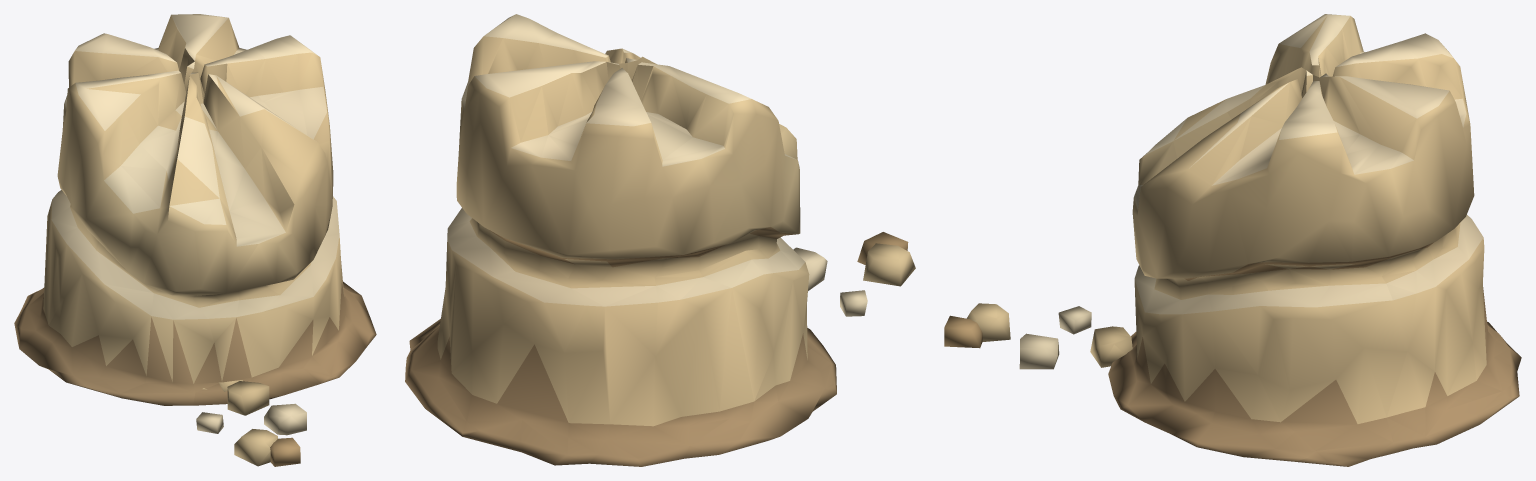
The model's file is shore_sand_pie_a_lod1.glb.
The picture shows the model from 3 angles, left to right: view 1: azimuth 30°, elevation 25°; view 2: azimuth 150°, elevation 25°; view 3: azimuth 270°, elevation 25°; orthographic projection. The views are drawn at different scales.
Visible parts, largest first — view 1: shore_sand_pie_a.001; view 2: shore_sand_pie_a.001; view 3: shore_sand_pie_a.001.
Part boxes in pixels (bbox=[...]): shore_sand_pie_a.001: bbox=[14, 14, 376, 466]; shore_sand_pie_a.001: bbox=[405, 14, 915, 466]; shore_sand_pie_a.001: bbox=[944, 14, 1521, 466].
Bounding box in the file's own units: 4.27 × 3.47 × 5.85.
